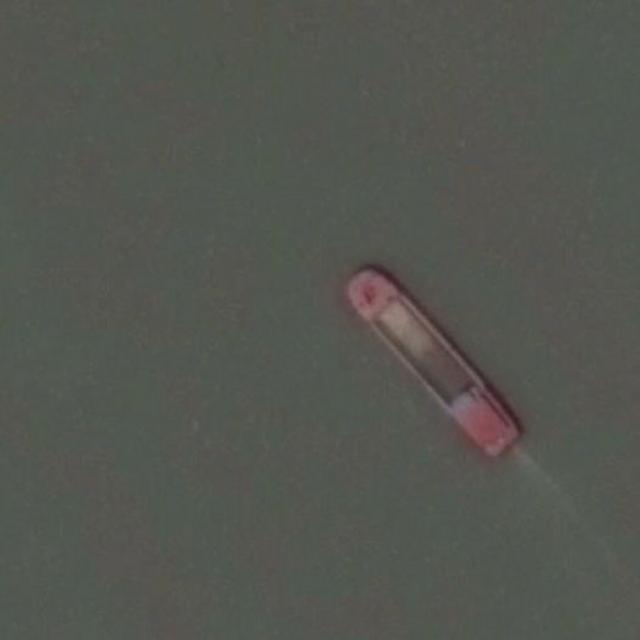boat: (342, 263, 522, 461)
